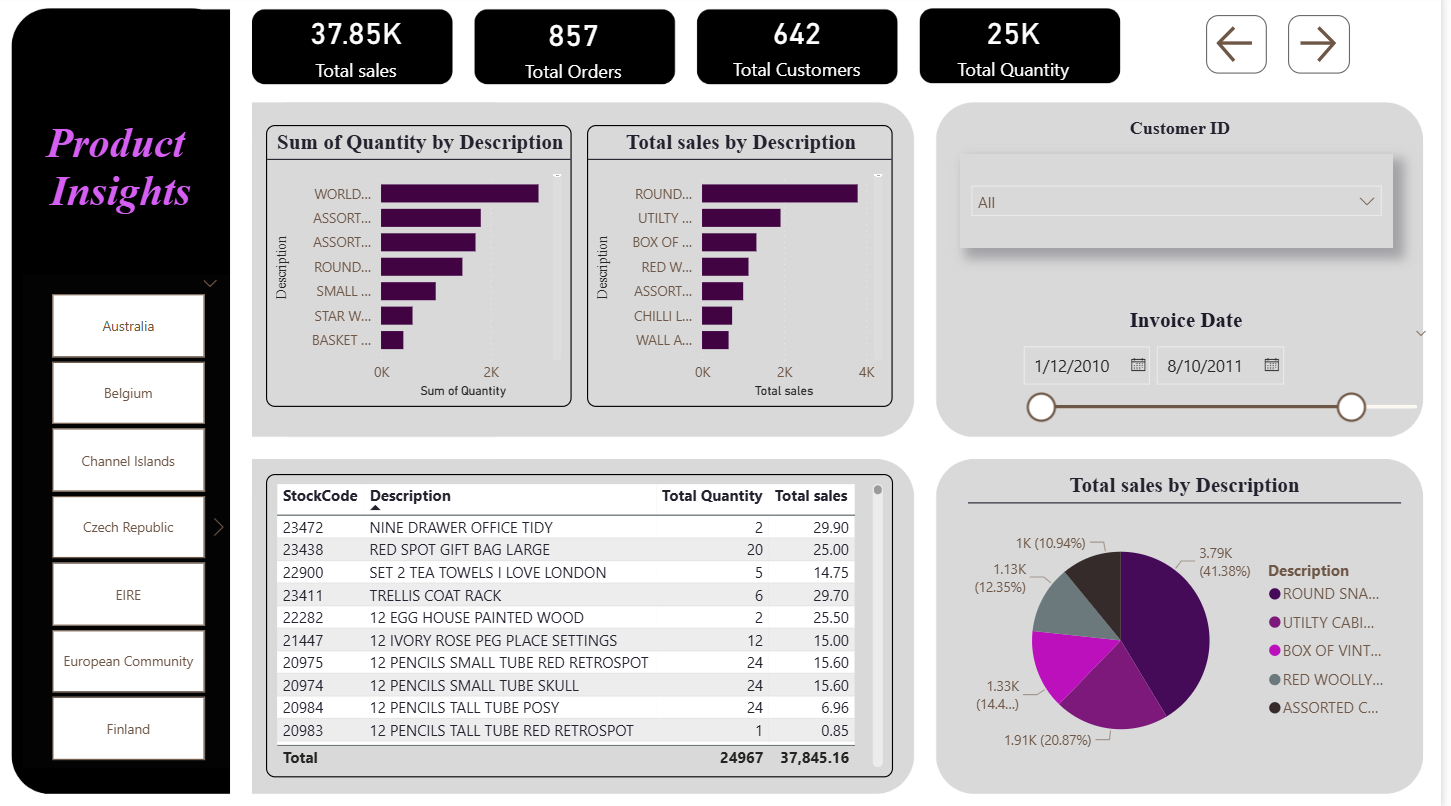

The dashboard page shown, as its layout file describes it:
{"tool":"powerbi","page":{"name":"Product Insights","canvas":[1280,720],"ordinal":2},"visuals":[{"type":"textbox","box":[11.1,103.7,196.3,111.1],"z":0},{"type":"actionButton","box":[1071.6,17.3,54.3,51.9],"z":1000},{"type":"actionButton","box":[1144.9,16.9,55.5,51.9],"z":2000},{"type":"slicer","fields":{"Values":["data.Country"]},"box":[22.9,247.3,184.6,436.7],"z":3000},{"type":"card","fields":{"Values":["data.Total sales"]},"box":[221.3,6.7,193.3,70.7],"z":4000},{"type":"card","fields":{"Values":["data.Total Orders"]},"box":[414.7,1.3,192,84],"z":5000},{"type":"card","fields":{"Values":["data.Total Customers"]},"box":[606.7,0,205.3,84],"z":6000},{"type":"card","fields":{"Values":["data.Total Quantity"]},"box":[750.7,0,300,84],"z":7000},{"type":"clusteredBarChart","fields":{"Category":["data.Description"],"Y":["Sum(data.Quantity)"]},"box":[238.9,114.6,271.4,249.7],"z":8000},{"type":"clusteredBarChart","fields":{"Category":["data.Description"],"Y":["data.Total sales"]},"box":[523.6,114.6,271.4,249.7],"z":9000},{"type":"tableEx","fields":{"Values":["data.StockCode","data.Description","data.Total Quantity","data.Total sales"]},"box":[238.9,423.5,556.2,269],"z":10000},{"type":"slicer","fields":{"Values":["data.InvoiceDate"]},"box":[897.4,292.3,382.8,104.3],"z":11000},{"type":"slicer","fields":{"Values":["data.CustomerID"]},"box":[854.2,139.9,383.6,83.2],"z":12000},{"type":"textbox","box":[998.9,271.4,144.8,42.2],"z":13000},{"type":"textbox","box":[998.9,103.8,126.7,42.2],"z":14000},{"type":"pieChart","fields":{"Category":["data.Description"],"Y":["data.Total sales"]},"box":[861,423,384,269],"z":15000}]}

Visuals, with their boxes in screenshot pixels (x1, y1, x2, y2), scaled from the page's 1280x720 canvas onto the 1451x806 screenshot:
textbox: <region>13, 116, 235, 240</region>
actionButton: <region>1215, 19, 1276, 77</region>
actionButton: <region>1298, 19, 1361, 77</region>
slicer - data.Country: <region>26, 277, 235, 766</region>
card - data.Total sales: <region>251, 8, 470, 87</region>
card - data.Total Orders: <region>470, 1, 688, 95</region>
card - data.Total Customers: <region>688, 0, 920, 94</region>
card - data.Total Quantity: <region>851, 0, 1191, 94</region>
clusteredBarChart - data.Description x Sum(data.Quantity): <region>271, 128, 578, 408</region>
clusteredBarChart - data.Description x data.Total sales: <region>594, 128, 901, 408</region>
tableEx - data.StockCode x data.Description: <region>271, 474, 901, 775</region>
slicer - data.InvoiceDate: <region>1017, 327, 1450, 444</region>
slicer - data.CustomerID: <region>968, 157, 1403, 250</region>
textbox: <region>1132, 304, 1296, 351</region>
textbox: <region>1132, 116, 1276, 163</region>
pieChart - data.Description x data.Total sales: <region>976, 474, 1411, 775</region>
